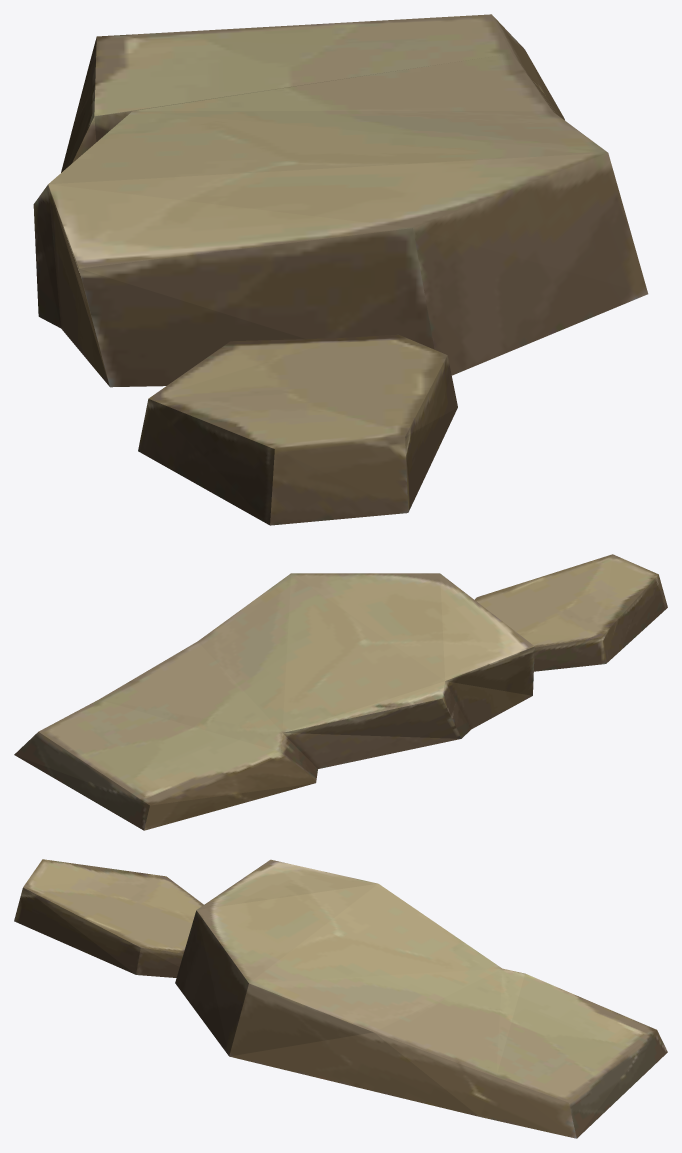
Rendered from caodi_xiaoshitou_03.fbx.
3 renders of one model, top to bottom at view 1: azimuth 30°, elevation 25°; view 2: azimuth 150°, elevation 25°; view 3: azimuth 270°, elevation 25°, orthographic. The views are drawn at different scales.
Visible parts, largest first — view 1: caodi_xiaoshitou_03; view 2: caodi_xiaoshitou_03; view 3: caodi_xiaoshitou_03.
Part boxes in pixels (<box>): caodi_xiaoshitou_03: <box>33,14,648,525</box>; caodi_xiaoshitou_03: <box>14,554,667,830</box>; caodi_xiaoshitou_03: <box>14,859,667,1138</box>.
Bounding box in the file's own units: 3.72 × 0.9559 × 5.21.
